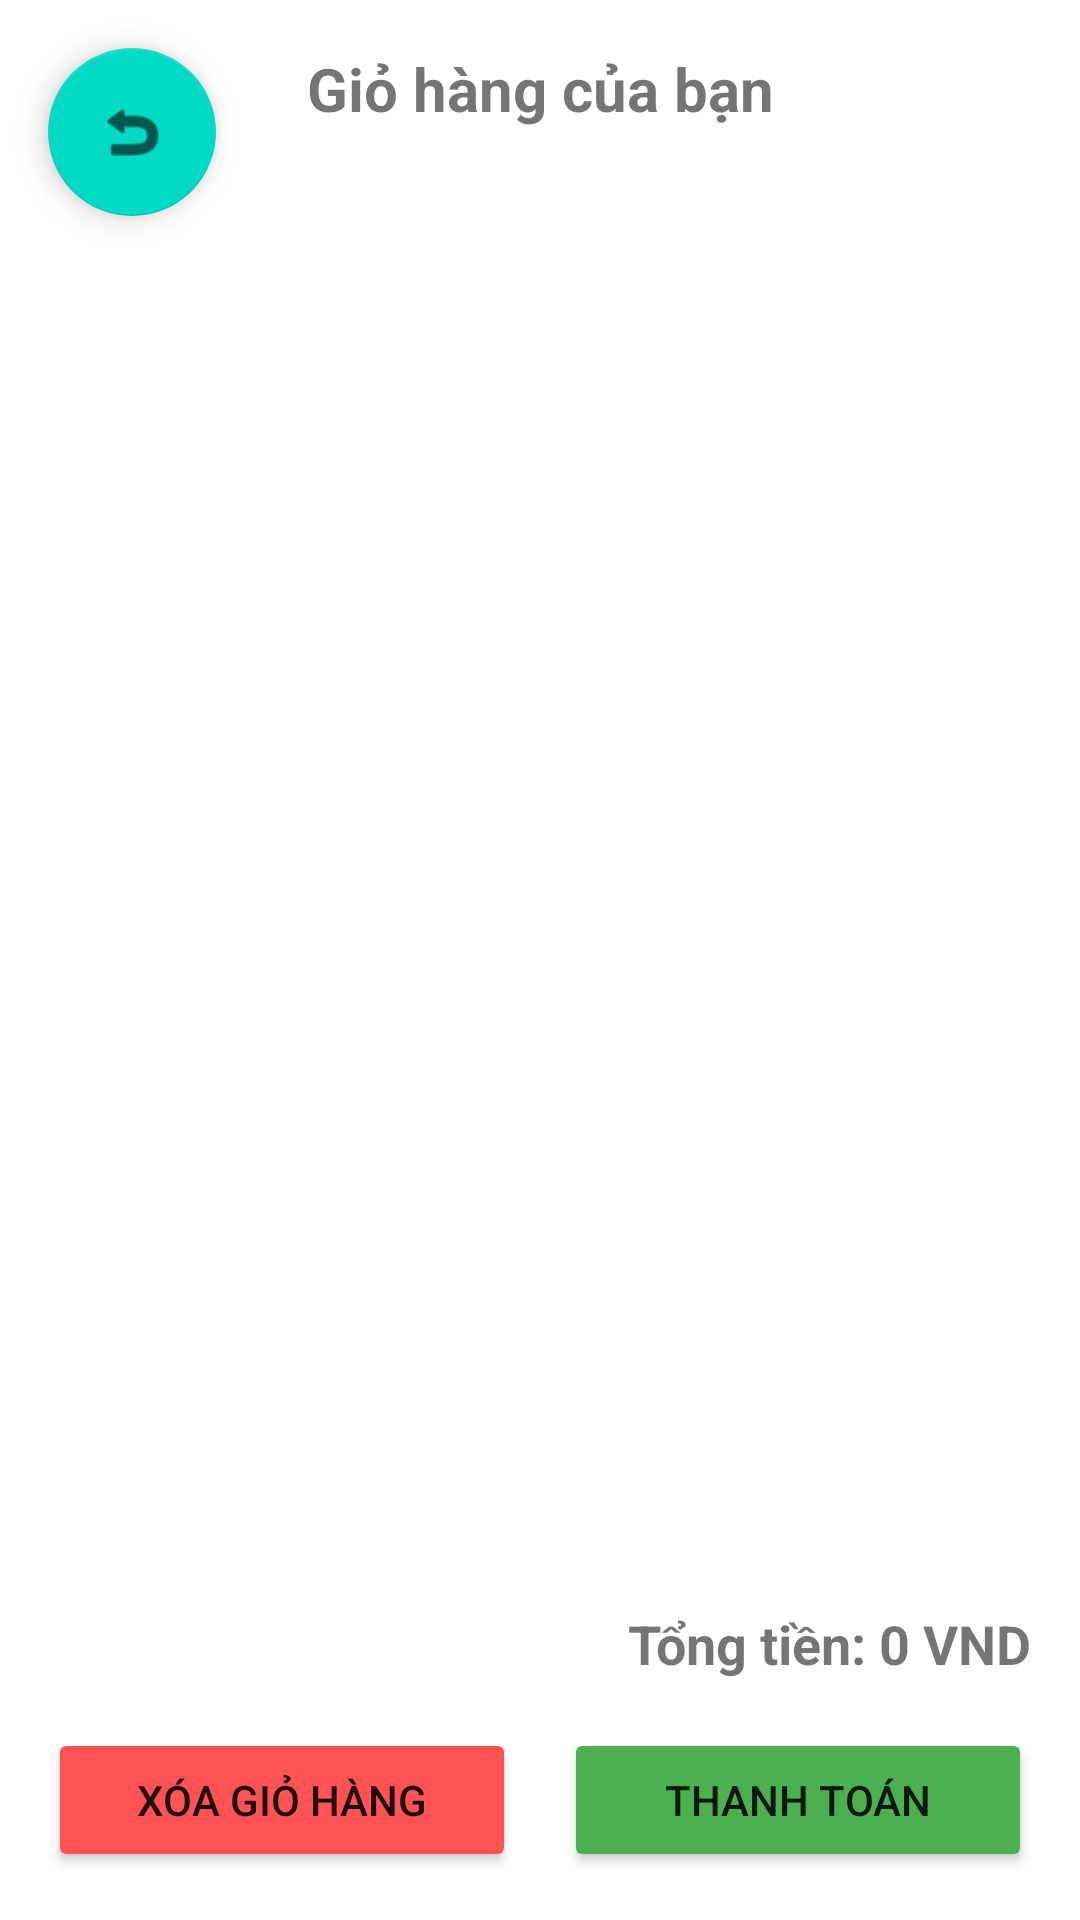

Icon click points for this 1080 × 1920 phone screenshot, format point (x, y):
revert: point (132, 132)
